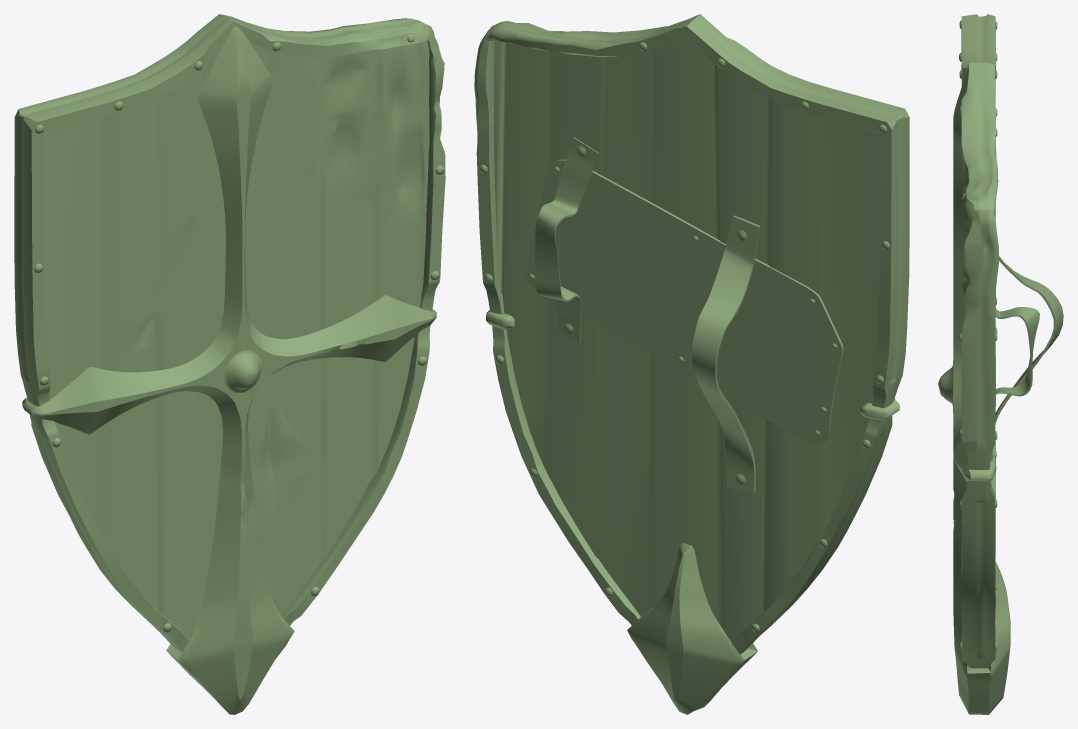
The model's file is ShieldFinal.fbx.
The picture shows the model from 3 angles, left to right: view 1: azimuth 30°, elevation 25°; view 2: azimuth 150°, elevation 25°; view 3: azimuth 270°, elevation 25°; orthographic projection. The views are drawn at different scales.
Visible parts, largest first — view 1: ShieldFinal; view 2: ShieldFinal; view 3: ShieldFinal.
Boxes of the visible parts, left/top/right/bottom form: ShieldFinal: left=14, top=14, right=445, bottom=714; ShieldFinal: left=474, top=14, right=909, bottom=714; ShieldFinal: left=938, top=14, right=1063, bottom=714.
Bounding box in the file's own units: 57.5 × 91.41 × 15.97.
